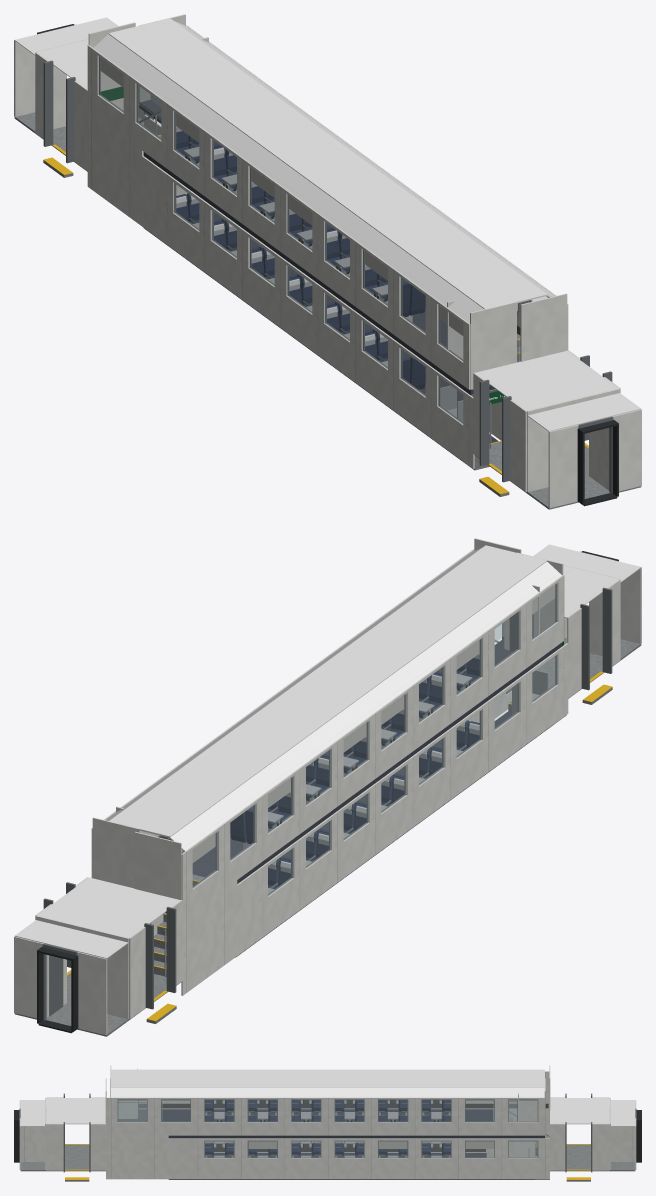
Rendered from ed_sisa.glb.
3 views of the same model, one above another, from view 1: azimuth 30°, elevation 25°; view 2: azimuth 150°, elevation 25°; view 3: azimuth 270°, elevation 25° (orthographic). The views are drawn at different scales.
Parts seen in each view (by area): view 1: sisa_S_seina, sisa_S_katto, sisa_S_ikkunalasi, sisa_S_kehys, sisa_S_verhoilu, sisa_S_matto, sisa_S_muovimatto, sisa_S_verho, sisa_S_tumma, sisa_S_niskatuki, sisa_S_teras, sisa_S_poyta; view 2: sisa_S_seina, sisa_S_katto, sisa_S_ikkunalasi, sisa_S_kehys, sisa_S_verhoilu, sisa_S_matto, sisa_S_muovimatto, sisa_S_verho, sisa_S_tumma, sisa_S_niskatuki, sisa_S_poyta, sisa_S_teras; view 3: sisa_S_seina, sisa_S_katto, sisa_S_ikkunalasi, sisa_S_matto, sisa_S_kehys, sisa_S_verhoilu, sisa_S_muovimatto, sisa_S_muovi, sisa_S_saleikko, sisa_S_poyta, sisa_S_lasi, sisa_S_verho (+3 smaller).
Boxes of the visible parts, x1=… form: sisa_S_seina: x1=14, y1=14, x2=641, y2=508; sisa_S_katto: x1=14, y1=17, x2=641, y2=431; sisa_S_ikkunalasi: x1=98, y1=56, x2=547, y2=423; sisa_S_kehys: x1=43, y1=24, x2=613, y2=493; sisa_S_verhoilu: x1=176, y1=131, x2=425, y2=389; sisa_S_matto: x1=139, y1=100, x2=498, y2=460; sisa_S_muovimatto: x1=14, y1=112, x2=641, y2=509; sisa_S_verho: x1=100, y1=58, x2=463, y2=335; sisa_S_tumma: x1=37, y1=24, x2=618, y2=506; sisa_S_niskatuki: x1=176, y1=126, x2=387, y2=346; sisa_S_teras: x1=138, y1=110, x2=519, y2=448; sisa_S_poyta: x1=183, y1=147, x2=387, y2=366; sisa_S_seina: x1=14, y1=538, x2=641, y2=1035; sisa_S_katto: x1=15, y1=544, x2=641, y2=958; sisa_S_ikkunalasi: x1=193, y1=583, x2=557, y2=896; sisa_S_kehys: x1=42, y1=551, x2=612, y2=1020; sisa_S_verhoilu: x1=230, y1=658, x2=479, y2=888; sisa_S_matto: x1=168, y1=638, x2=562, y2=957; sisa_S_muovimatto: x1=14, y1=637, x2=641, y2=1036; sisa_S_verho: x1=192, y1=585, x2=555, y2=862; sisa_S_tumma: x1=37, y1=551, x2=618, y2=1033; sisa_S_niskatuki: x1=268, y1=653, x2=479, y2=873; sisa_S_poyta: x1=268, y1=674, x2=472, y2=893; sisa_S_teras: x1=163, y1=640, x2=548, y2=975; sisa_S_seina: x1=19, y1=1065, x2=636, y2=1179; sisa_S_katto: x1=20, y1=1069, x2=635, y2=1126; sisa_S_ikkunalasi: x1=118, y1=1099, x2=537, y2=1157; sisa_S_matto: x1=118, y1=1109, x2=544, y2=1179; sisa_S_kehys: x1=19, y1=1093, x2=636, y2=1172; sisa_S_verhoilu: x1=205, y1=1100, x2=450, y2=1155; sisa_S_muovimatto: x1=20, y1=1109, x2=635, y2=1181; sisa_S_muovi: x1=205, y1=1100, x2=450, y2=1157; sisa_S_saleikko: x1=139, y1=1103, x2=548, y2=1151; sisa_S_poyta: x1=214, y1=1112, x2=441, y2=1157; sisa_S_lasi: x1=118, y1=1101, x2=516, y2=1121; sisa_S_verho: x1=248, y1=1141, x2=494, y2=1148.
Size of the model in its own units: 3.1 by 4.06 by 26.04.
22 materials, 7 textured.
